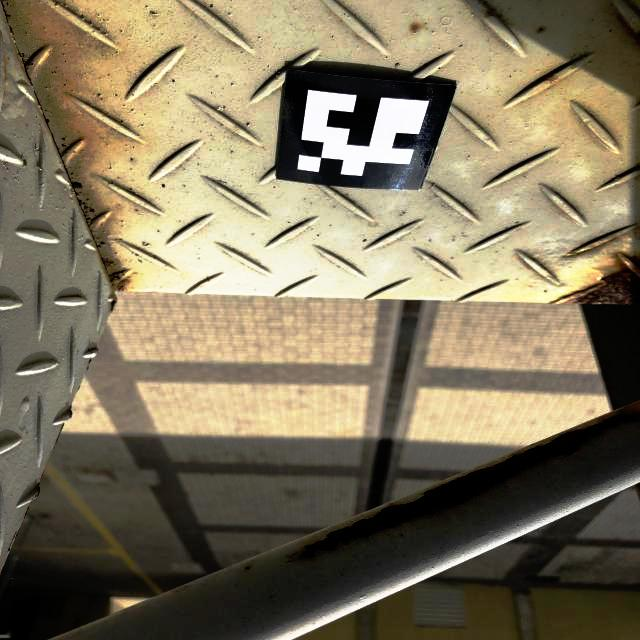Corrosion: (299, 411, 640, 564), (566, 268, 640, 305), (544, 73, 557, 84)
